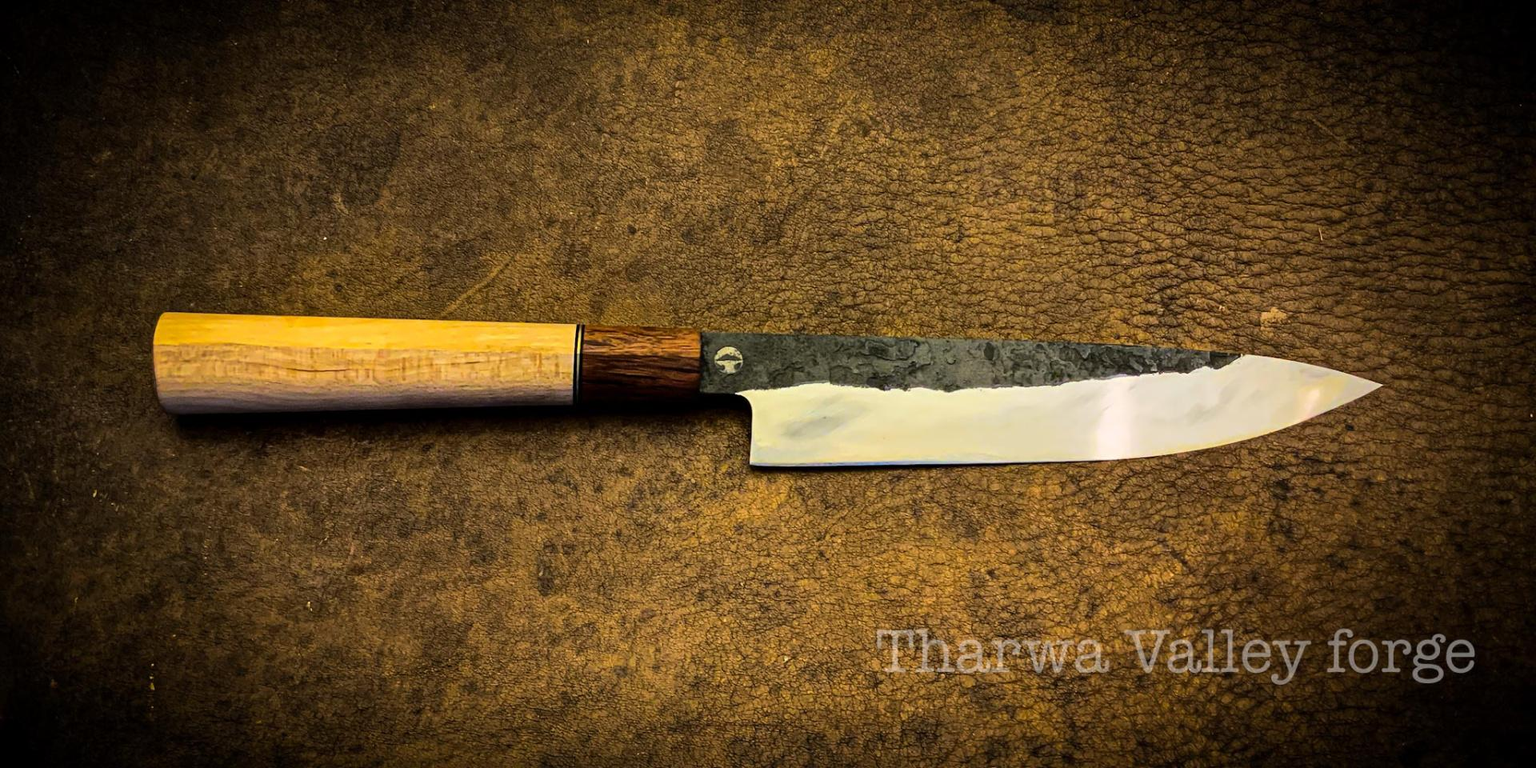Knife: (138, 298, 1396, 486)
